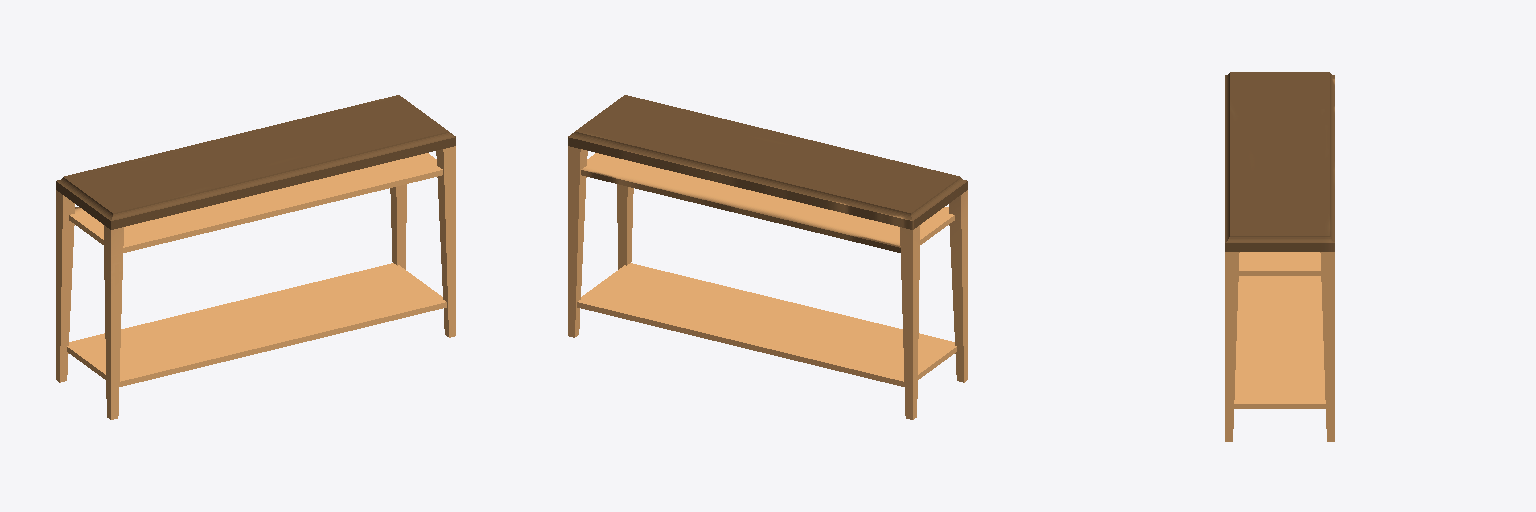
3 views of the same model, side by side, from view 1: azimuth 30°, elevation 25°; view 2: azimuth 150°, elevation 25°; view 3: azimuth 270°, elevation 25° (orthographic).
Parts seen in each view (by area): view 1: Cube_Cube.001; view 2: Cube_Cube.001; view 3: Cube_Cube.001.
Boxes of the visible parts, x1,y1,x2,y2 form: Cube_Cube.001: [56, 95, 455, 419]; Cube_Cube.001: [568, 95, 967, 419]; Cube_Cube.001: [1225, 72, 1334, 441].
Bounding box in the file's own units: 1.33 × 0.75 × 0.37.
Materials: 1 (1 with a texture image).